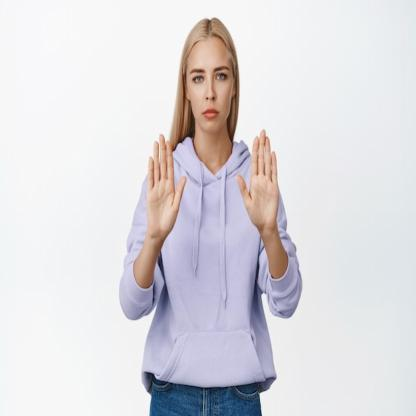stop: (234, 124, 286, 240), (140, 130, 188, 248)
